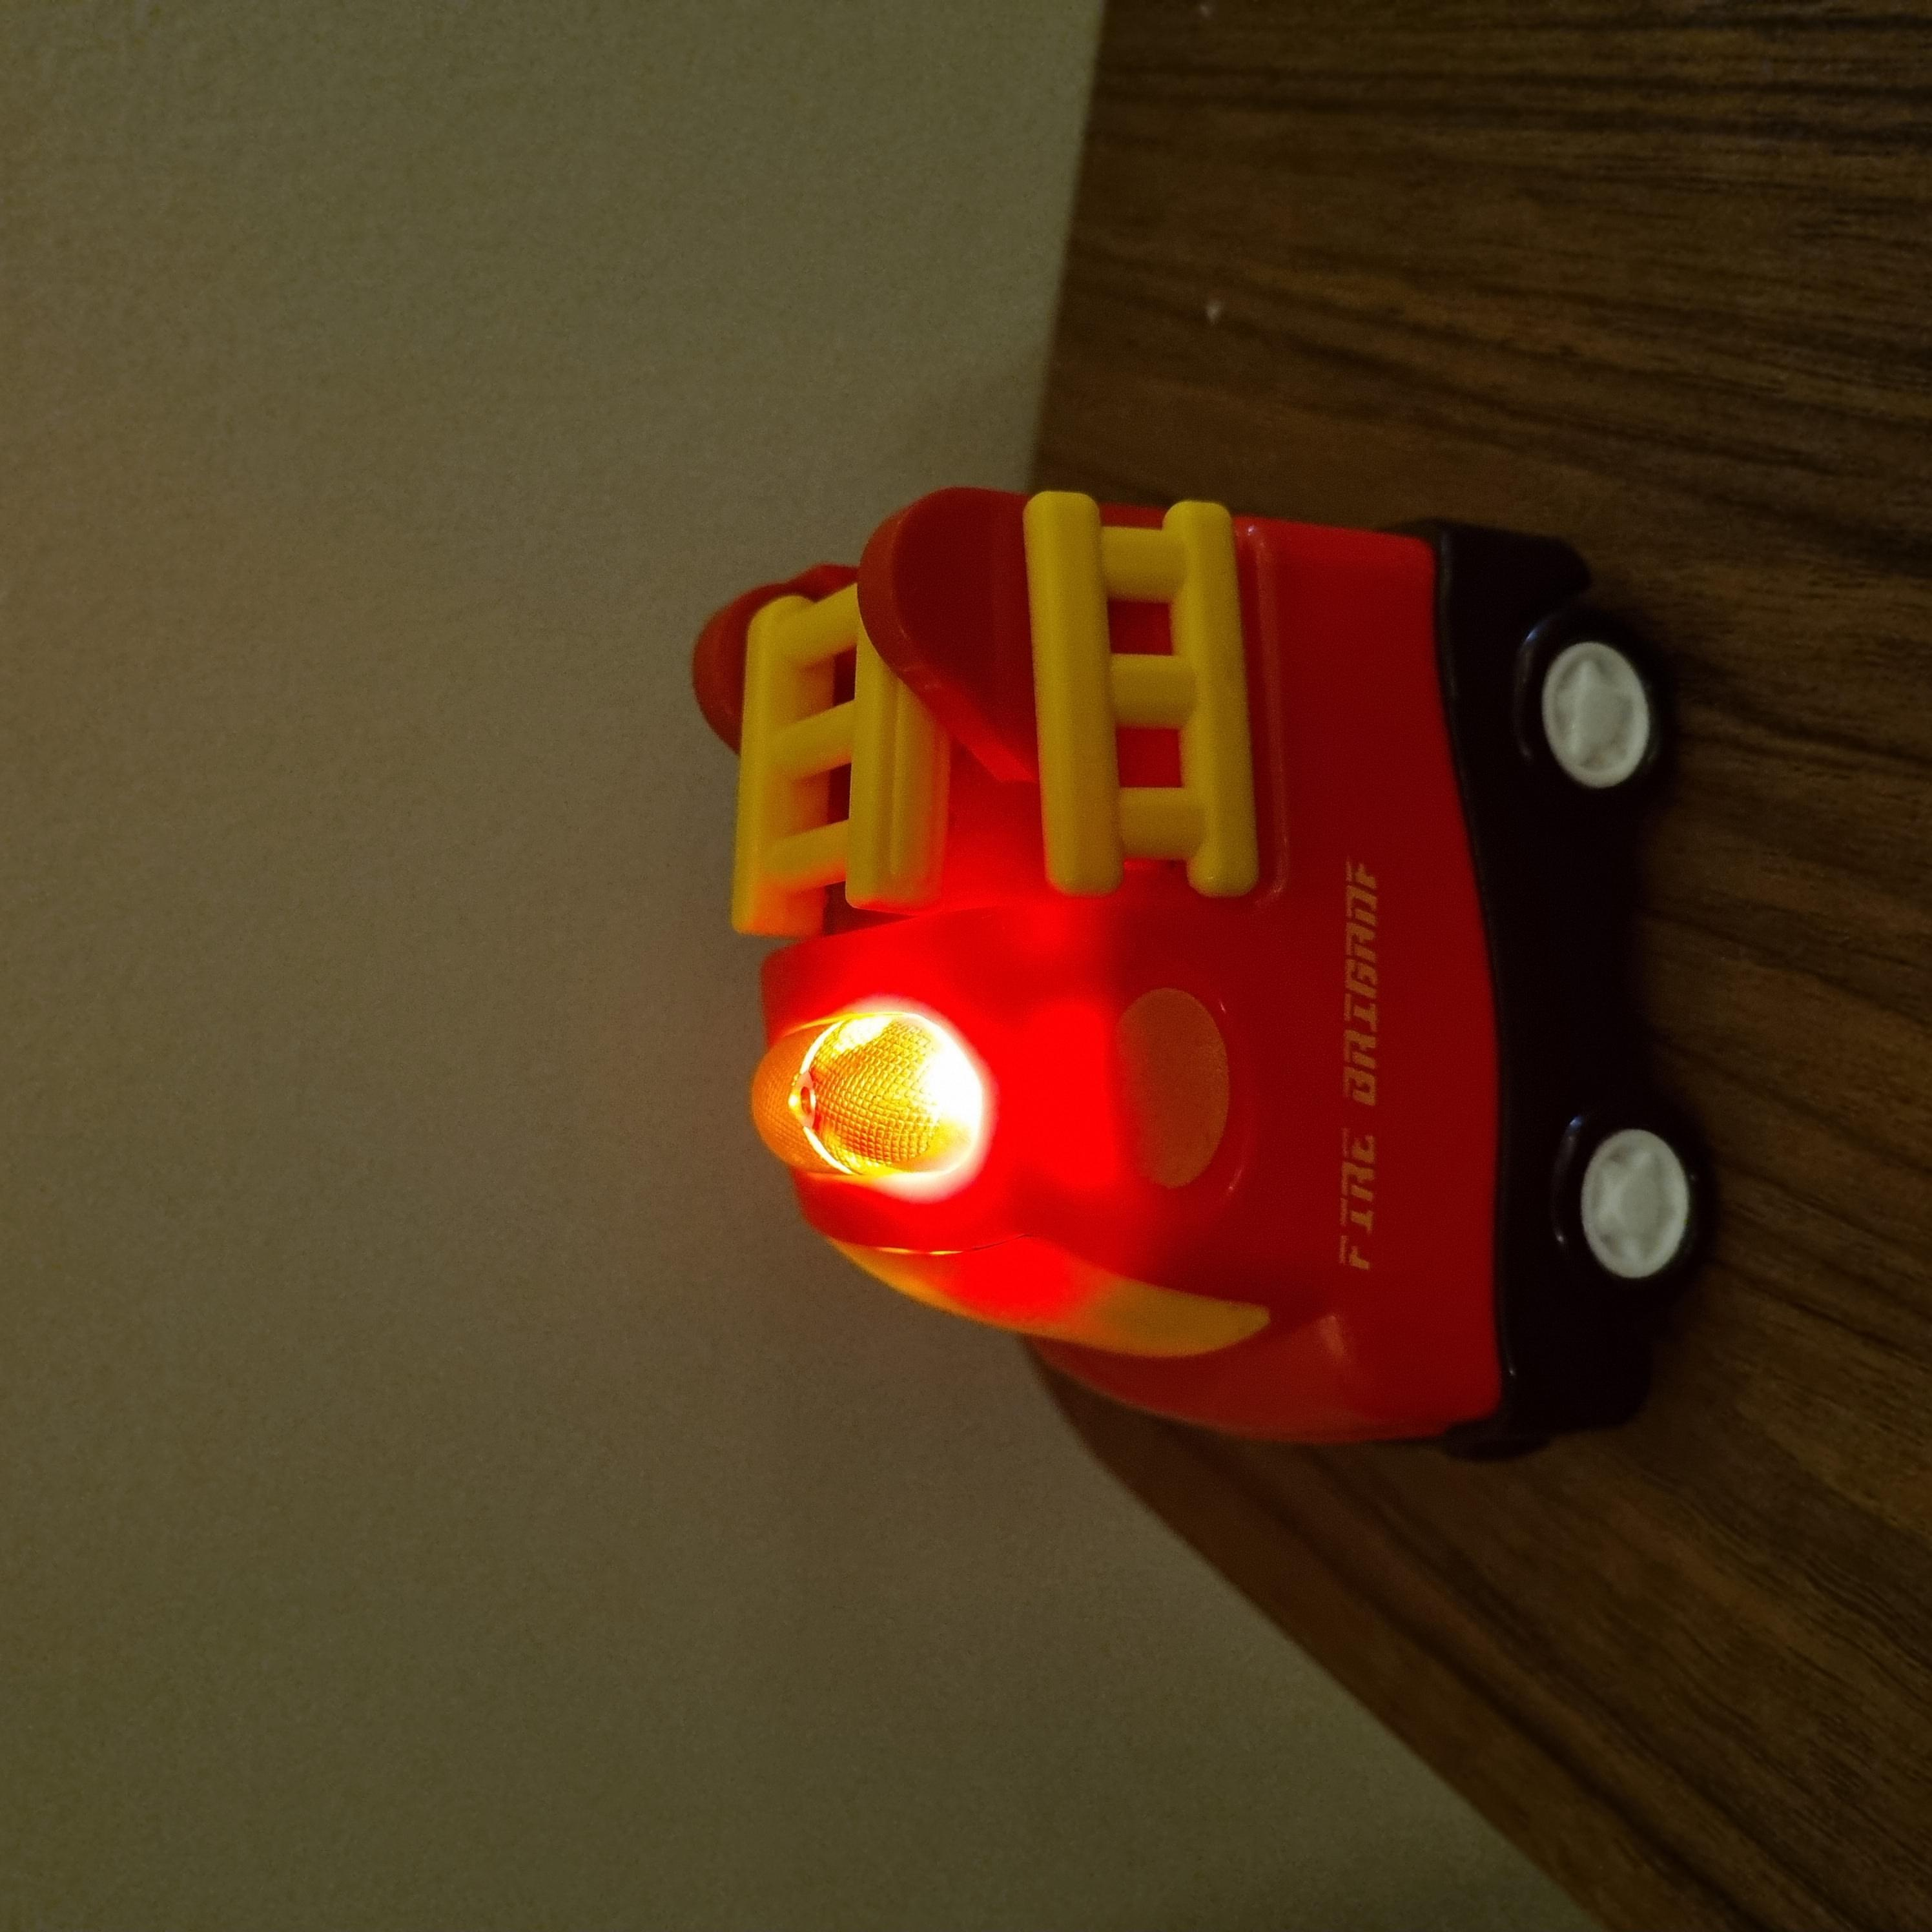firetruck_on: (495, 688, 1445, 1702)
